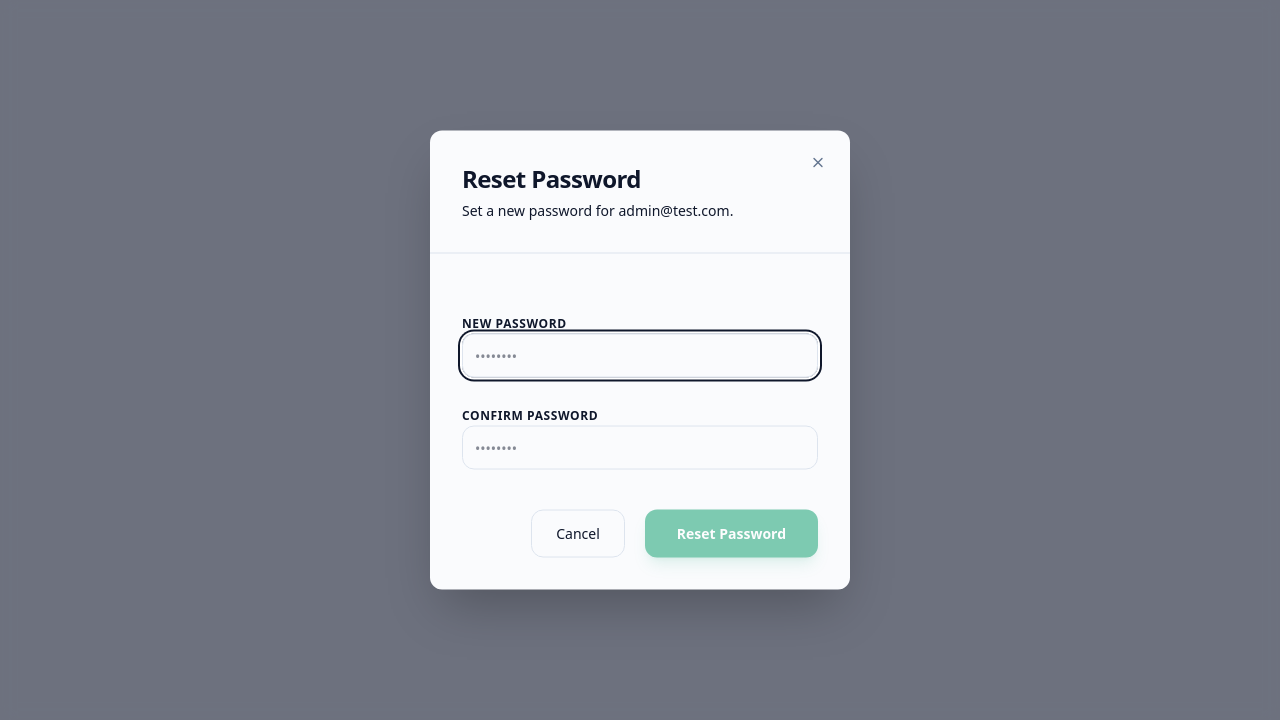
Test: ResetPasswordDialog › shows mismatch warning when passwords differ
Type "password1" into the password field labelled "New Password" at {"x": 640, "y": 356}, box [462,334,818,378]
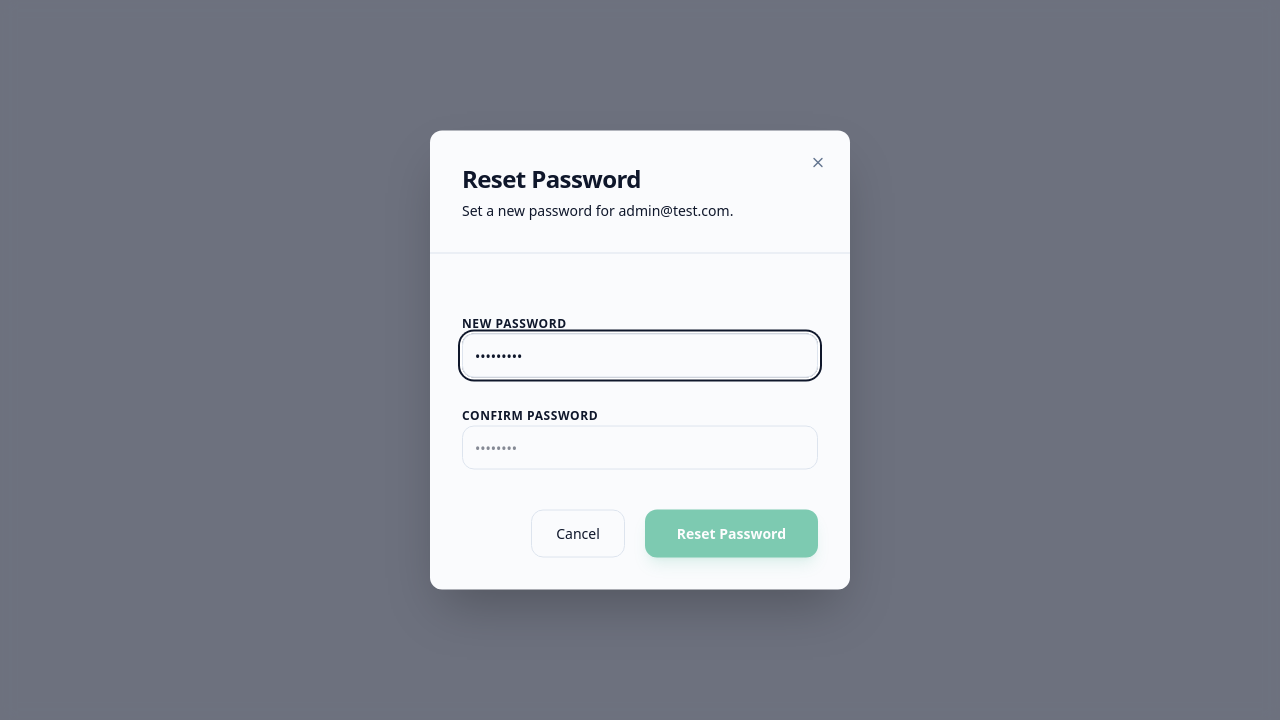
Type "password2" into the password field labelled "Confirm Password" at {"x": 640, "y": 448}, box [462,426,818,470]
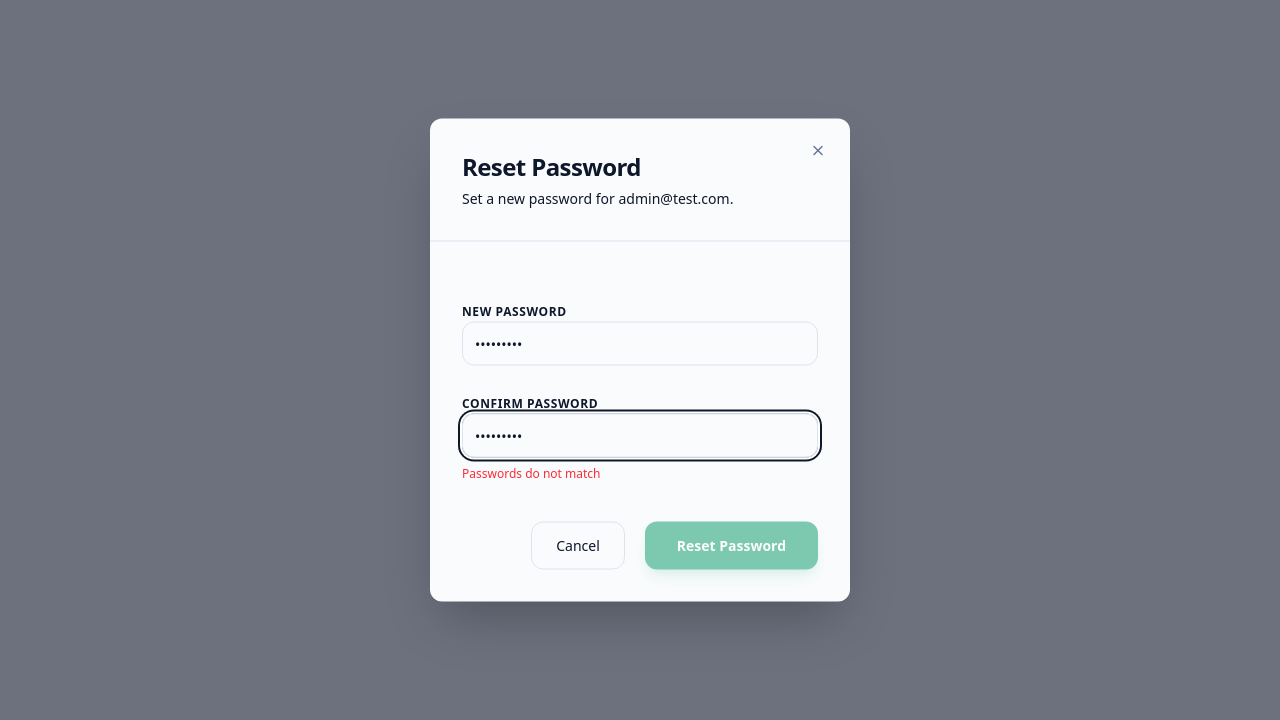
Check: the text "Passwords do not match" is shown, box [462,464,600,482]
